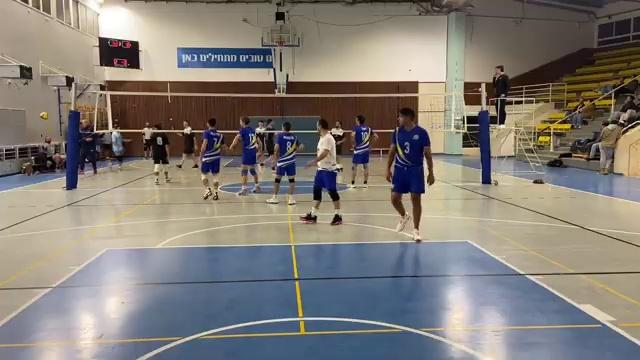ball: (41, 110, 51, 121)
